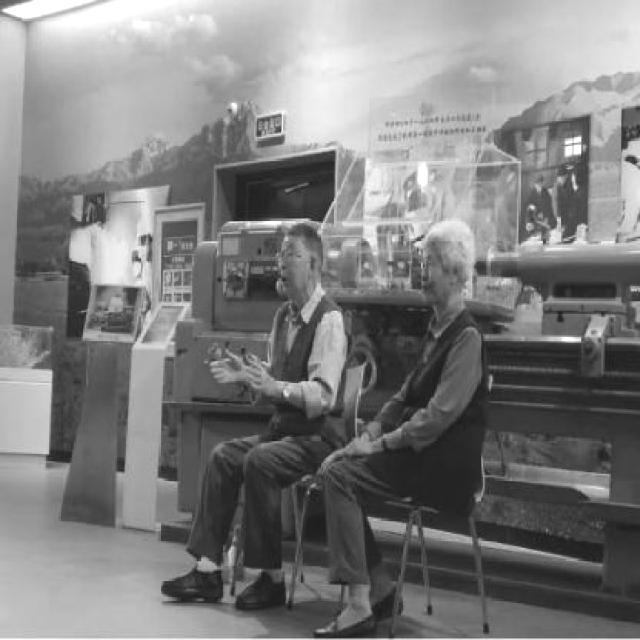face_nomask: (278, 237, 310, 294), (414, 248, 444, 302)
hand_noglove: (205, 348, 243, 388), (243, 358, 274, 398), (315, 444, 343, 476), (341, 436, 374, 458)
head_nohelmet: (422, 211, 472, 257), (283, 222, 322, 249)
person: (180, 217, 352, 600), (331, 222, 491, 632)
shoes: (156, 561, 224, 604), (232, 569, 292, 611)
